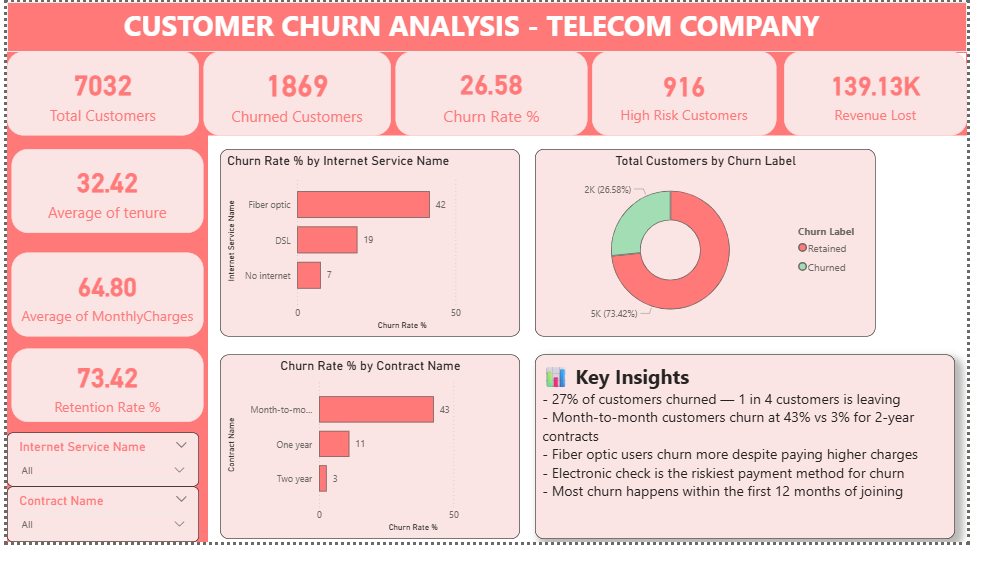

The dashboard page shown, as its layout file describes it:
{"tool":"powerbi","page":{"name":"Page 1","canvas":[1280,720],"ordinal":0},"visuals":[{"type":"shape","box":[268,66,1012,112],"z":0},{"type":"shape","box":[0,66,268,654],"z":1000},{"type":"card","fields":{"Values":["Avg(churn_clean.MonthlyCharges)"]},"box":[6,334,256,112],"z":2000},{"type":"card","fields":{"Values":["Avg(churn_clean.tenure)"]},"box":[6,196,256,112],"z":3000},{"type":"card","fields":{"Values":["churn_clean.Churned Customers"]},"box":[262,66,250,112],"z":4000},{"type":"card","fields":{"Values":["churn_clean.Churn Rate %"]},"box":[518,66,256,112],"z":5000},{"type":"donutChart","fields":{"Category":["churn_clean.Churn Label"],"Y":["churn_clean.Total Customers"]},"box":[704,196,454,250],"z":6000},{"type":"clusteredBarChart","fields":{"Y":["churn_clean.Churn Rate %"],"Category":["churn_clean.Contract Name"]},"box":[284,470,400,246],"z":7000},{"type":"clusteredBarChart","fields":{"Y":["churn_clean.Churn Rate %"],"Category":["churn_clean.Internet Service Name"]},"box":[284,196,400,250],"z":8000},{"type":"textbox","box":[0,0,1280,66.7],"z":9000},{"type":"textbox","box":[704,470,560,246],"z":10000},{"type":"card","fields":{"Values":["churn_clean.Total Customers"]},"box":[0,66,256,112],"z":11000},{"type":"slicer","fields":{"Values":["churn_clean.Contract Name"]},"box":[0,646,256,74],"z":12000},{"type":"slicer","fields":{"Values":["churn_clean.Internet Service Name"]},"box":[0,574,256,72],"z":13000},{"type":"card","fields":{"Values":["churn_clean.High Risk Customers"]},"box":[780,66,246,112],"z":13001},{"type":"card","fields":{"Values":["churn_clean.Revenue Lost"]},"box":[1036,66,244,112],"z":13002},{"type":"card","fields":{"Values":["churn_clean.Retention Rate %"]},"box":[6,462,256,98],"z":13003}]}

Visuals, with their boxes in screenshot pixels (x1, y1, x2, y2), scaled from the page's 1280x720 canvas onto the 1004x561 screenshot:
shape: {"x1": 210, "y1": 51, "x2": 1003, "y2": 139}
shape: {"x1": 0, "y1": 51, "x2": 210, "y2": 560}
card - Avg(churn_clean.MonthlyCharges): {"x1": 5, "y1": 260, "x2": 206, "y2": 348}
card - Avg(churn_clean.tenure): {"x1": 5, "y1": 153, "x2": 206, "y2": 240}
card - churn_clean.Churned Customers: {"x1": 206, "y1": 51, "x2": 402, "y2": 139}
card - churn_clean.Churn Rate %: {"x1": 406, "y1": 51, "x2": 607, "y2": 139}
donutChart - churn_clean.Churn Label x churn_clean.Total Customers: {"x1": 552, "y1": 153, "x2": 908, "y2": 348}
clusteredBarChart - churn_clean.Churn Rate % x churn_clean.Contract Name: {"x1": 223, "y1": 366, "x2": 537, "y2": 558}
clusteredBarChart - churn_clean.Churn Rate % x churn_clean.Internet Service Name: {"x1": 223, "y1": 153, "x2": 537, "y2": 348}
textbox: {"x1": 0, "y1": 0, "x2": 1003, "y2": 52}
textbox: {"x1": 552, "y1": 366, "x2": 991, "y2": 558}
card - churn_clean.Total Customers: {"x1": 0, "y1": 51, "x2": 201, "y2": 139}
slicer - churn_clean.Contract Name: {"x1": 0, "y1": 503, "x2": 201, "y2": 560}
slicer - churn_clean.Internet Service Name: {"x1": 0, "y1": 447, "x2": 201, "y2": 503}
card - churn_clean.High Risk Customers: {"x1": 612, "y1": 51, "x2": 805, "y2": 139}
card - churn_clean.Revenue Lost: {"x1": 813, "y1": 51, "x2": 1003, "y2": 139}
card - churn_clean.Retention Rate %: {"x1": 5, "y1": 360, "x2": 206, "y2": 436}
